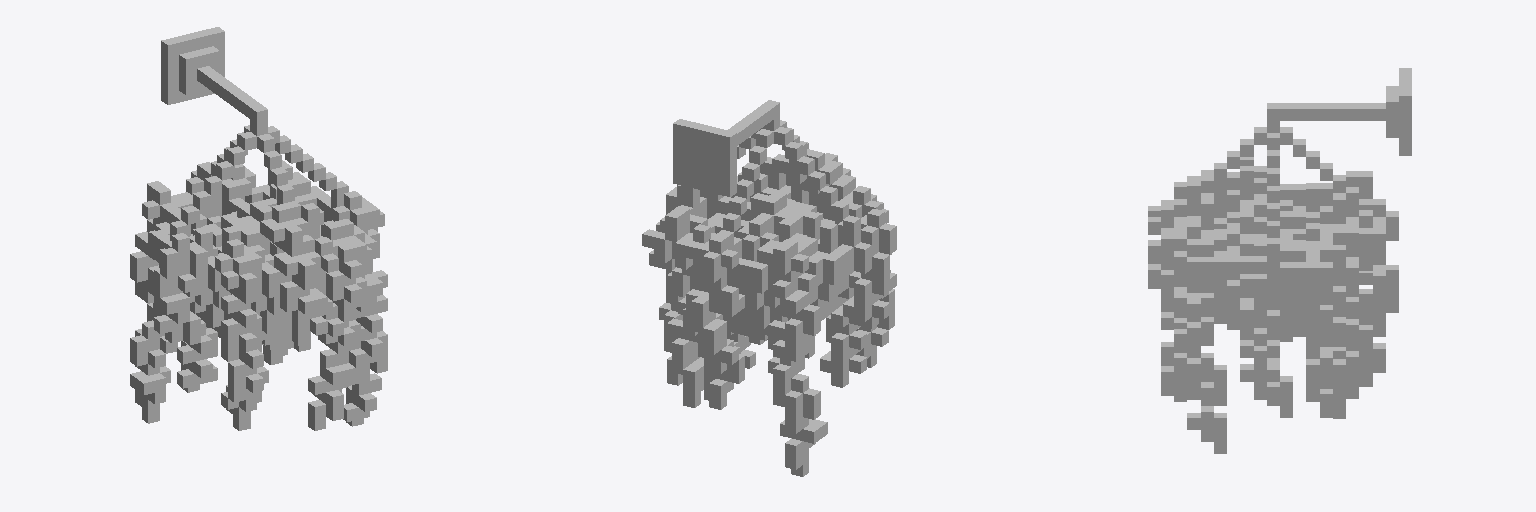
Rendered from Hanging Basket 2 - Ivy.obj.
3 views of the same model, side by side, from view 1: azimuth 30°, elevation 25°; view 2: azimuth 150°, elevation 25°; view 3: azimuth 270°, elevation 25° (orthographic).
Visible parts, largest first — view 1: Hanging Basket 2 - Ivy; view 2: Hanging Basket 2 - Ivy; view 3: Hanging Basket 2 - Ivy.
Part boxes in pixels (x1,y1,x2,y2): Hanging Basket 2 - Ivy: (130, 27, 387, 430); Hanging Basket 2 - Ivy: (642, 100, 896, 476); Hanging Basket 2 - Ivy: (1148, 68, 1411, 453).
Bounding box in the file's own units: 19 × 29 × 20.